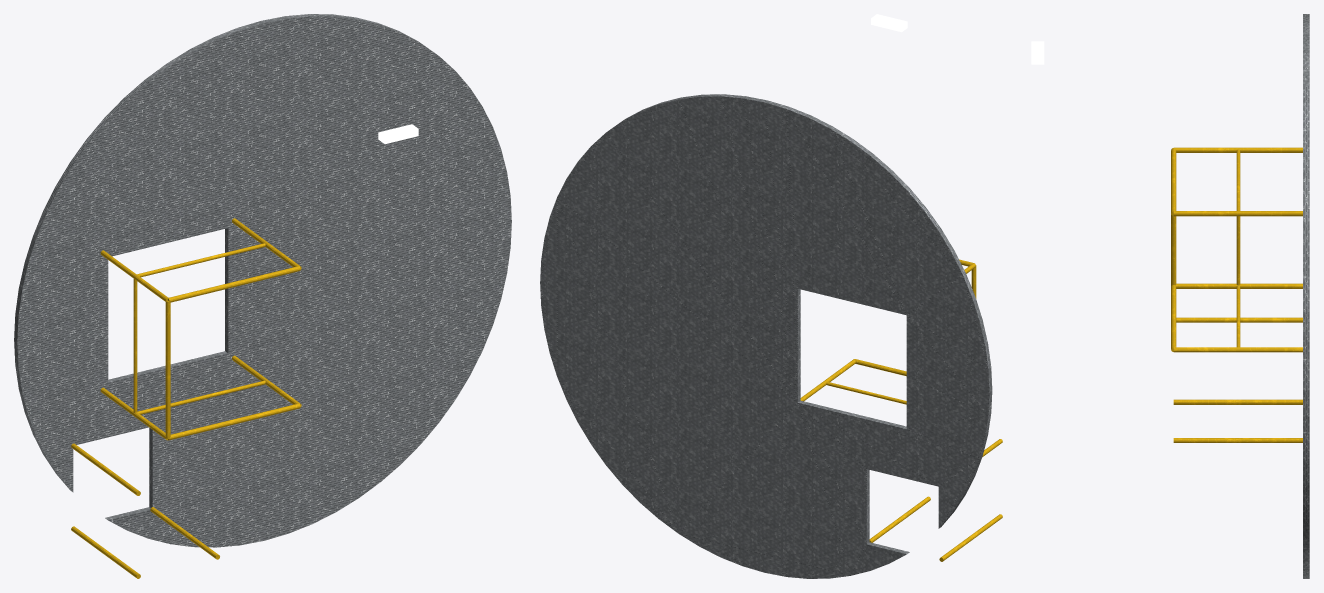
The model's file is platform_3.glb.
The picture shows the model from 3 angles, left to right: view 1: azimuth 30°, elevation 25°; view 2: azimuth 150°, elevation 25°; view 3: azimuth 270°, elevation 25°; orthographic projection. The views are drawn at different scales.
Parts seen in each view (by area): view 1: platform_3; view 2: platform_3; view 3: platform_3.
Boxes of the visible parts, <box> form: platform_3: <box>14,14,511,578</box>; platform_3: <box>540,14,1002,578</box>; platform_3: <box>1031,14,1309,578</box>.
Size of the model in its own units: 4.37 by 4.37 by 2.15.
Materials: 3 (2 with a texture image).
